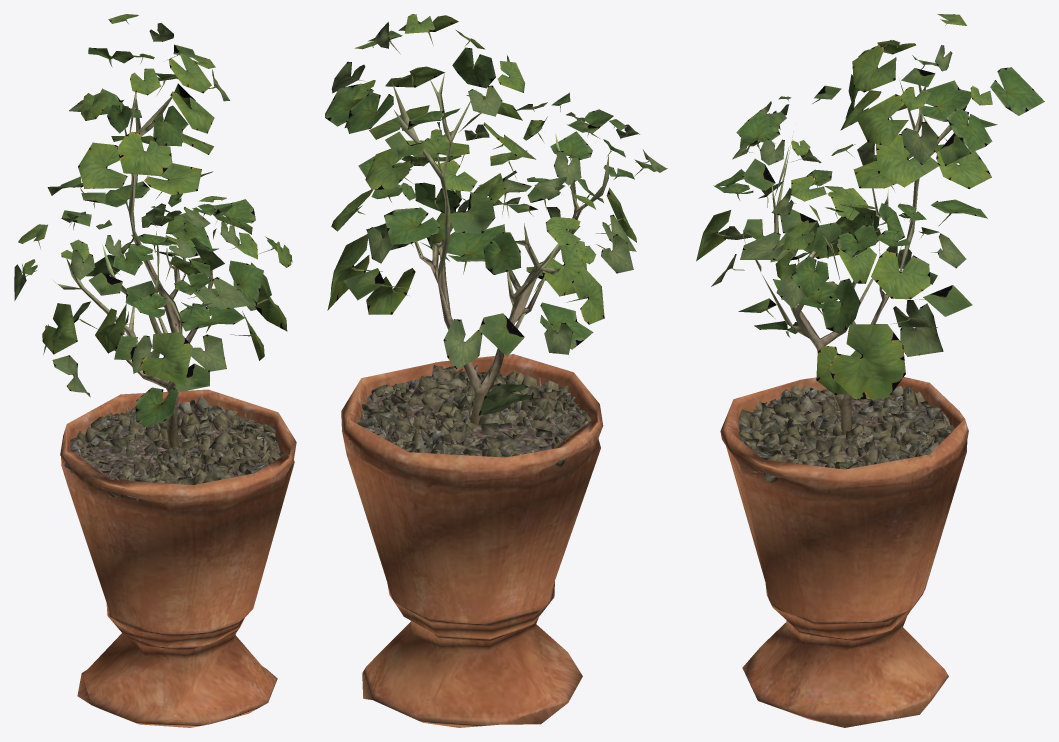
Rendered from potted_plant_01.glb.
3 views of the same model, side by side, from view 1: azimuth 30°, elevation 25°; view 2: azimuth 150°, elevation 25°; view 3: azimuth 270°, elevation 25° (orthographic). The views are drawn at different scales.
Visible parts, largest first — view 1: potted_plant_01_pot, potted_plant_01_leaves, potted_plant_01_pebbles, potted_plant_01_stem; view 2: potted_plant_01_pot, potted_plant_01_leaves, potted_plant_01_pebbles, potted_plant_01_stem; view 3: potted_plant_01_pot, potted_plant_01_leaves, potted_plant_01_pebbles, potted_plant_01_stem.
Boxes of the visible parts, x1=… form: potted_plant_01_pot: x1=60, y1=389, x2=296, y2=727; potted_plant_01_leaves: x1=14, y1=14, x2=292, y2=427; potted_plant_01_pebbles: x1=64, y1=396, x2=293, y2=500; potted_plant_01_stem: x1=53, y1=91, x2=219, y2=448; potted_plant_01_pot: x1=341, y1=354, x2=603, y2=727; potted_plant_01_leaves: x1=325, y1=14, x2=667, y2=415; potted_plant_01_pebbles: x1=348, y1=362, x2=599, y2=468; potted_plant_01_stem: x1=392, y1=72, x2=608, y2=425; potted_plant_01_pot: x1=720, y1=377, x2=968, y2=727; potted_plant_01_leaves: x1=696, y1=14, x2=1044, y2=399; potted_plant_01_pebbles: x1=735, y1=384, x2=963, y2=487; potted_plant_01_stem: x1=755, y1=80, x2=963, y2=435.
Size of the model in its own units: 0.5866 by 1.33 by 0.6336.
Materials: 2 (2 with a texture image).
